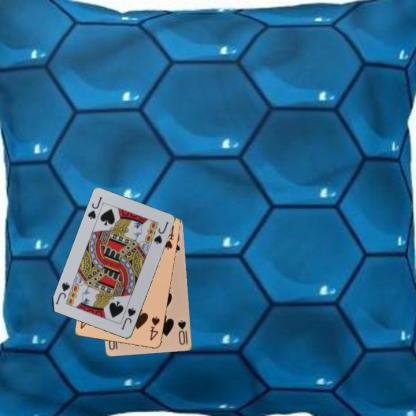10s: (175, 318, 189, 346)
4s: (148, 314, 162, 342)
Js: (118, 305, 137, 331), (85, 194, 103, 221)
